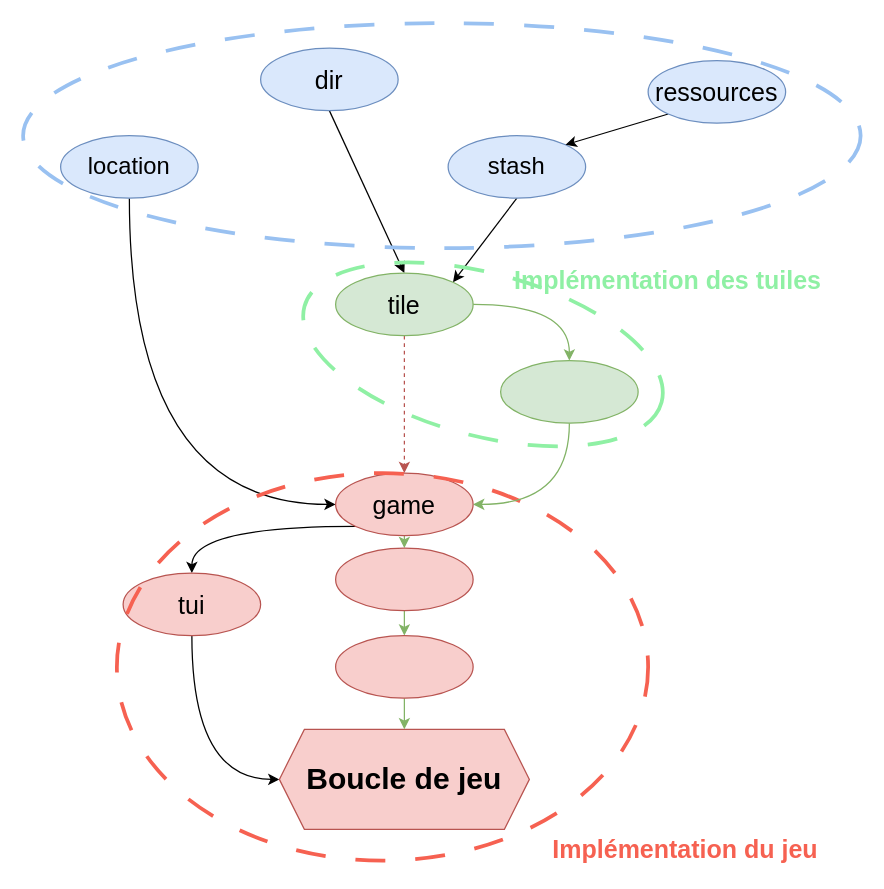
Some shapes in this 884 by 889 pixel diagram are drawn without their labels. Each missing label, with the centre of its shape:
"equipement" goes at (x=403, y=666).
"Fondation" goes at (x=441, y=135).
"target" goes at (x=403, y=579).
"tile_bis" goes at (x=568, y=391).
